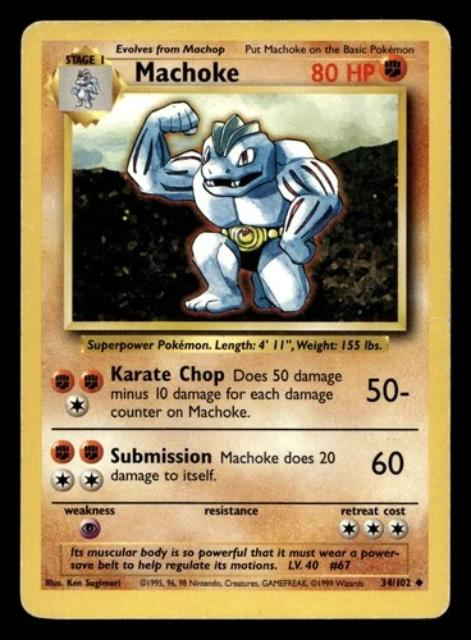Card: (17, 12, 453, 622)
Name: (125, 55, 238, 82)
